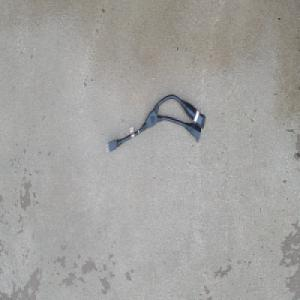Wire: (104, 92, 206, 153)
